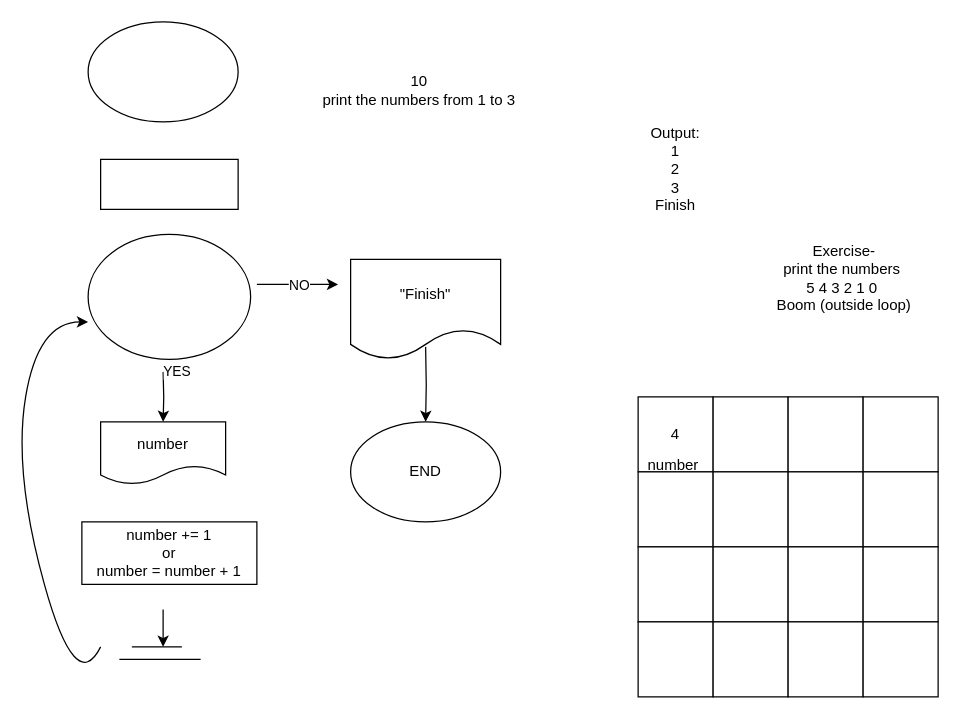
Image size: 973x719. Some labels were removed from this diagram. Here are the shapes that lost their labels. From the top down, the centre of each, then its label:
At point (162, 71): "START".
At point (168, 183): "number = 1".
At point (169, 296): "number <= 3 ?".
